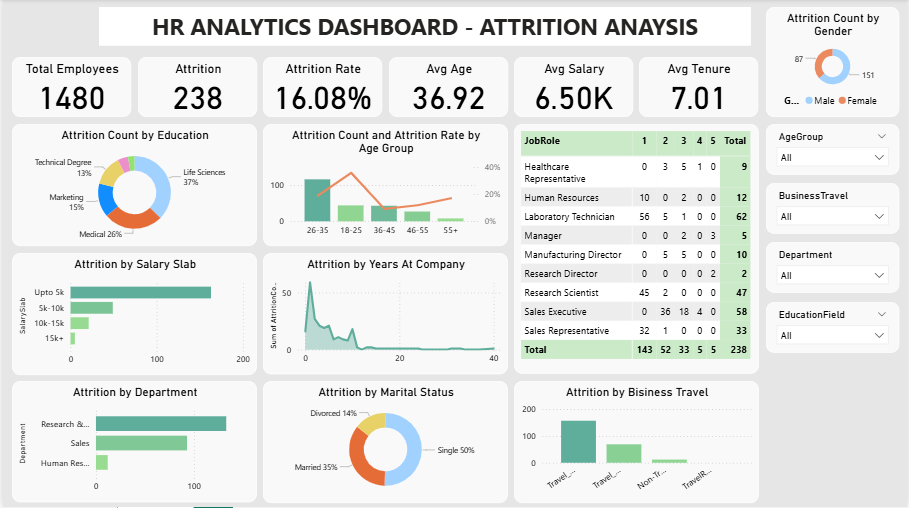

What the dashboard file says about the page in this screenshot:
{"tool":"powerbi","page":{"name":"Page 1","canvas":[1280,720],"ordinal":0},"visuals":[{"type":"textbox","box":[136.1,11.3,924.1,55.3],"z":0},{"type":"card","title":"Total Employees","fields":{"Values":["CountNonNull(HR_Analytics.EmpID)"]},"box":[13.2,82.2,169,85],"z":1000},{"type":"card","title":"Attrition","fields":{"Values":["Sum(HR_Analytics.AttritionCount)"]},"box":[190.9,82.2,169,85],"z":2000},{"type":"card","title":"Attrition Rate","fields":{"Values":["HR_Analytics.AttritionRate"]},"box":[368,82.2,169,85],"z":3000},{"type":"card","title":"Avg Age","fields":{"Values":["Avg(HR_Analytics.Age)"]},"box":[546.5,82.2,169,85],"z":4000},{"type":"card","title":"Avg Salary","fields":{"Values":["Avg(HR_Analytics.MonthlyIncome)"]},"box":[724.3,82.2,169,85],"z":5000},{"type":"card","title":"Avg Tenure","fields":{"Values":["Avg(HR_Analytics.YearsAtCompany)"]},"box":[901.4,82.2,168.7,85],"z":6000},{"type":"donutChart","title":"Attrition Count by Gender","fields":{"Category":["HR_Analytics.Gender"],"Y":["Sum(HR_Analytics.AttritionCount)"]},"box":[1081.4,11.3,188.5,155.9],"z":7000},{"type":"donutChart","title":"Attrition Count by Education","fields":{"Y":["Sum(HR_Analytics.AttritionCount)"],"Category":["HR_Analytics.EducationField","HR_Analytics.YearsAtCompany"]},"box":[12.3,176.8,347.2,172.9],"z":8000},{"type":"lineStackedColumnComboChart","title":"Attrition Count and Attrition Rate by Age Group","fields":{"Category":["HR_Analytics.AgeGroup"],"Y":["Sum(HR_Analytics.AttritionCount)"],"Y2":["HR_Analytics.AttritionRate"]},"box":[368,176.8,347.2,172.9],"z":9000},{"type":"pivotTable","fields":{"Columns":["HR_Analytics.JobLevel"],"Values":["HR_Analytics.AttritionCount1"],"Rows":["JobRoleLevelMap.JobRole"]},"box":[724.3,177.2,347.2,354.3],"z":10000},{"type":"barChart","title":"Attrition by Salary Slab","fields":{"Y":["Sum(HR_Analytics.AttritionCount)"],"Category":["HR_Analytics.SalarySlab"]},"box":[12.3,359.4,347.2,172.9],"z":11000},{"type":"areaChart","title":"Attrition by Years At Company","fields":{"Category":["HR_Analytics.YearsAtCompany"],"Y":["Sum(HR_Analytics.AttritionCount)"]},"box":[368,359.4,347,172],"z":12000},{"type":"barChart","title":"Attrition by Department","fields":{"Y":["Sum(HR_Analytics.AttritionCount)"],"Category":["HR_Analytics.Department"]},"box":[12.8,541.9,347.2,172],"z":13000},{"type":"donutChart","title":"Attrition by Marital Status","fields":{"Y":["Sum(HR_Analytics.AttritionCount)"],"Category":["HR_Analytics.MaritalStatus"]},"box":[368,541,347.2,172.9],"z":14000},{"type":"columnChart","title":"Attrition by Bisiness Travel","fields":{"Category":["HR_Analytics.BusinessTravel"],"Y":["Sum(HR_Analytics.AttritionCount)"]},"box":[724.3,541,347.2,172.9],"z":15000},{"type":"slicer","fields":{"Values":["HR_Analytics.AgeGroup"]},"box":[1081.4,176.8,188.5,72.3],"z":16000},{"type":"slicer","fields":{"Values":["HR_Analytics.BusinessTravel"]},"box":[1081.4,260.9,188.5,72.3],"z":17000},{"type":"slicer","fields":{"Values":["HR_Analytics.Department"]},"box":[1081.4,345,188.5,72.3],"z":18000},{"type":"slicer","fields":{"Values":["HR_Analytics.EducationField"]},"box":[1081.4,429,188.5,72.3],"z":19000}]}

Visuals, with their boxes in screenshot pixels (x1, y1, x2, y2), scaled from the page's 1280x720 canvas onto the 909x508 screenshot:
textbox: (left=97, top=8, right=753, bottom=47)
"Total Employees" card: (left=9, top=58, right=129, bottom=118)
"Attrition" card: (left=136, top=58, right=256, bottom=118)
"Attrition Rate" card: (left=261, top=58, right=381, bottom=118)
"Avg Age" card: (left=388, top=58, right=508, bottom=118)
"Avg Salary" card: (left=514, top=58, right=634, bottom=118)
"Avg Tenure" card: (left=640, top=58, right=760, bottom=118)
"Attrition Count by Gender" donutChart: (left=768, top=8, right=902, bottom=118)
"Attrition Count by Education" donutChart: (left=9, top=125, right=255, bottom=247)
"Attrition Count and Attrition Rate by Age Group" lineStackedColumnComboChart: (left=261, top=125, right=508, bottom=247)
pivotTable - HR_Analytics.JobLevel x HR_Analytics.AttritionCount1: (left=514, top=125, right=761, bottom=375)
"Attrition by Salary Slab" barChart: (left=9, top=254, right=255, bottom=376)
"Attrition by Years At Company" areaChart: (left=261, top=254, right=508, bottom=375)
"Attrition by Department" barChart: (left=9, top=382, right=256, bottom=504)
"Attrition by Marital Status" donutChart: (left=261, top=382, right=508, bottom=504)
"Attrition by Bisiness Travel" columnChart: (left=514, top=382, right=761, bottom=504)
slicer - HR_Analytics.AgeGroup: (left=768, top=125, right=902, bottom=176)
slicer - HR_Analytics.BusinessTravel: (left=768, top=184, right=902, bottom=235)
slicer - HR_Analytics.Department: (left=768, top=243, right=902, bottom=294)
slicer - HR_Analytics.EducationField: (left=768, top=303, right=902, bottom=354)
